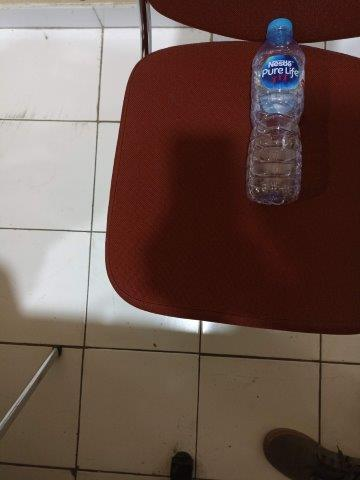botolplastik: (245, 18, 306, 208)
